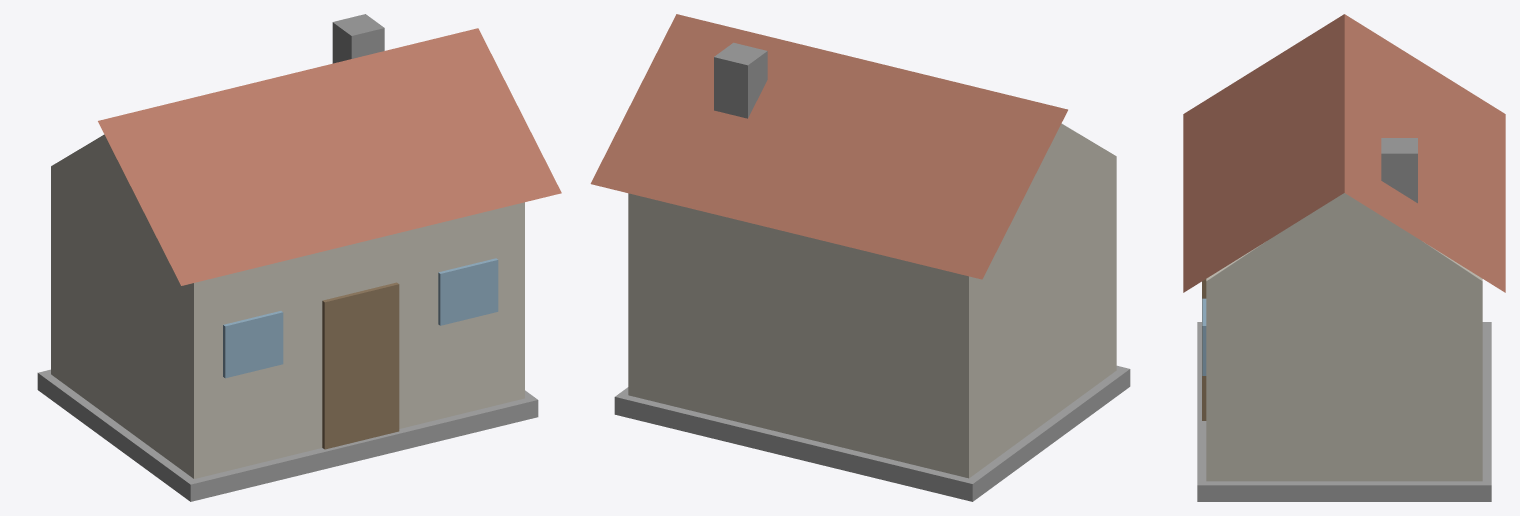
Rendered from casita.gltf.
3 views of the same model, side by side, from view 1: azimuth 30°, elevation 25°; view 2: azimuth 150°, elevation 25°; view 3: azimuth 270°, elevation 25° (orthographic). The views are drawn at different scales.
Parts seen in each view (by area): view 1: casita; view 2: casita; view 3: casita.
Boxes of the visible parts, bbox=[...] form: casita: bbox=[37, 14, 561, 501]; casita: bbox=[590, 14, 1130, 501]; casita: bbox=[1183, 14, 1505, 501].
Size of the model in its own units: 4.6 by 3.85 by 3.5.
